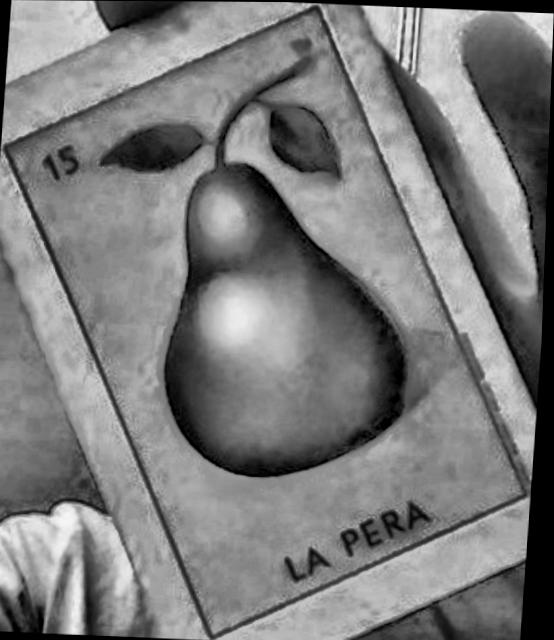La Pera: (7, 3, 532, 639)
